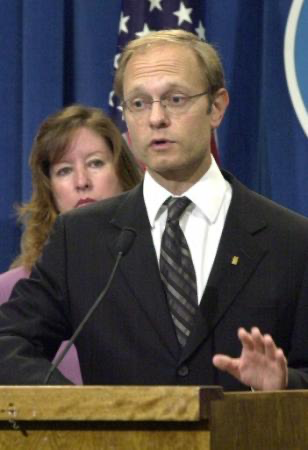Face: (121, 71, 217, 177), (47, 130, 126, 220)
